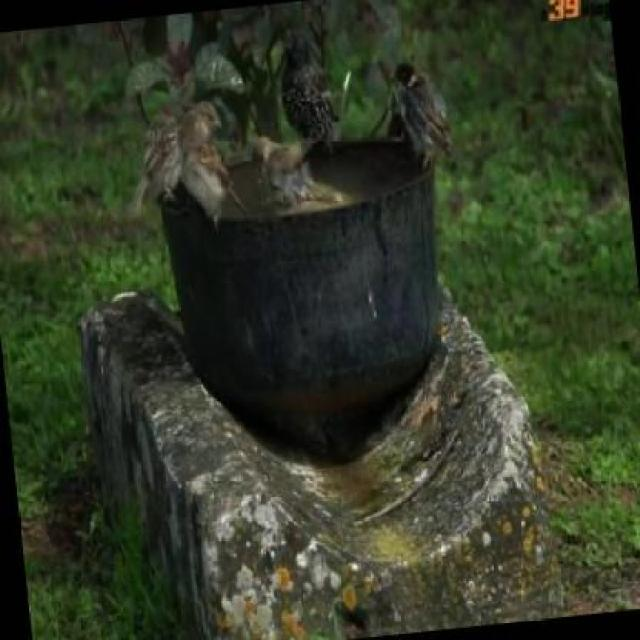Bird: (278, 38, 341, 156), (390, 61, 455, 170), (132, 125, 183, 215), (184, 142, 231, 226), (252, 133, 318, 185), (177, 98, 222, 149)
